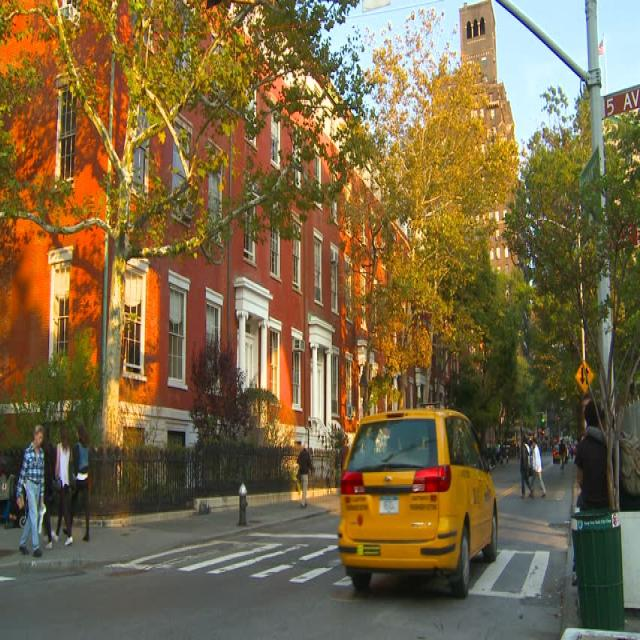body: (570, 398, 610, 590), (15, 421, 48, 559), (60, 422, 92, 542), (50, 423, 74, 548), (40, 425, 56, 548), (527, 433, 547, 500), (295, 440, 314, 509), (519, 433, 534, 500), (546, 433, 582, 460), (488, 439, 520, 468), (323, 463, 342, 496), (599, 406, 616, 442), (557, 437, 566, 471)
